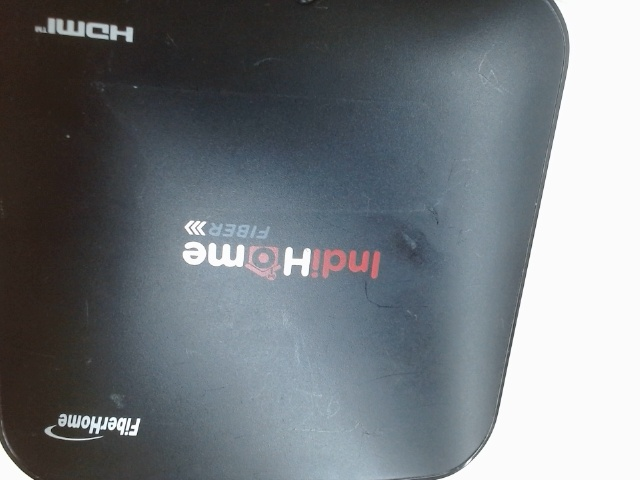AF_IndiHome: (158, 206, 402, 290)
